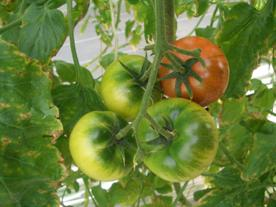stems: (144, 110, 171, 141), (164, 52, 184, 74), (115, 120, 133, 142), (137, 62, 153, 85)
tomato: (133, 97, 218, 181), (158, 36, 229, 107), (69, 111, 138, 181), (101, 55, 162, 121)
